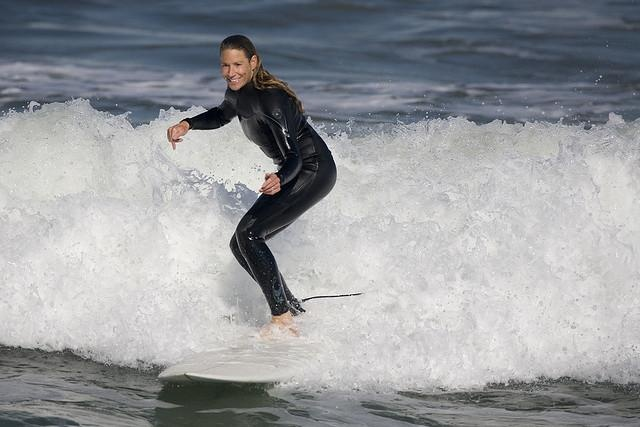person: (164, 34, 338, 334)
